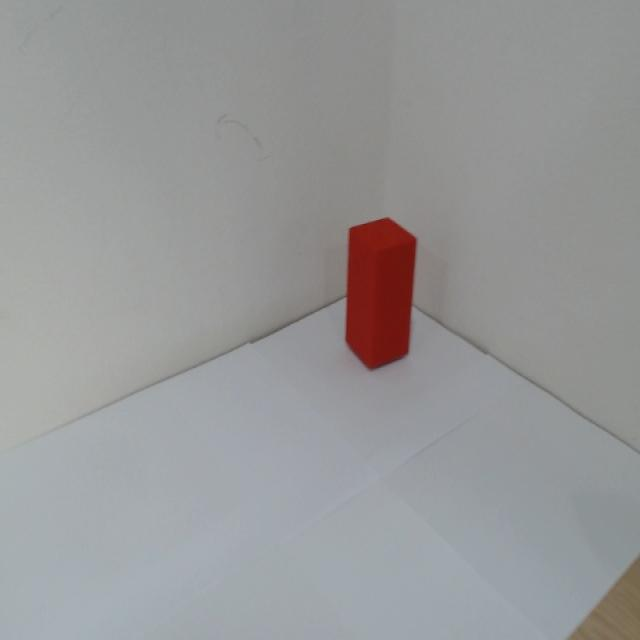cube: (339, 211, 422, 377)
